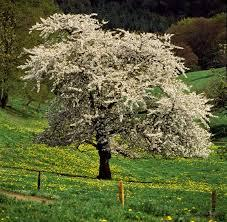tree: (21, 12, 220, 183)
